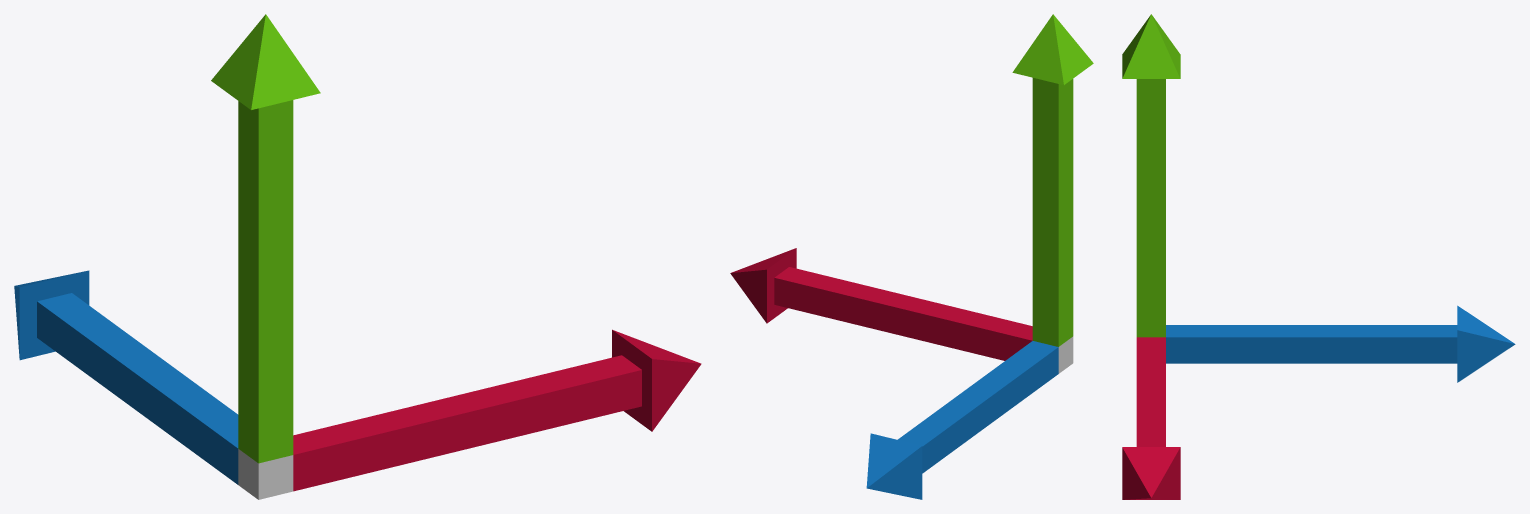
Rendered from axes.glb.
3 renders of one model, left to right at view 1: azimuth 30°, elevation 25°; view 2: azimuth 150°, elevation 25°; view 3: azimuth 270°, elevation 25°, orthographic. The views are drawn at different scales.
Visible parts, largest first — view 1: Axes; view 2: Axes; view 3: Axes.
Part boxes in pixels (<box>): Axes: <box>14,14,701,499</box>; Axes: <box>730,14,1093,499</box>; Axes: <box>1122,14,1515,499</box>.
Size of the model in its own units: 27 by 27 by 27.
